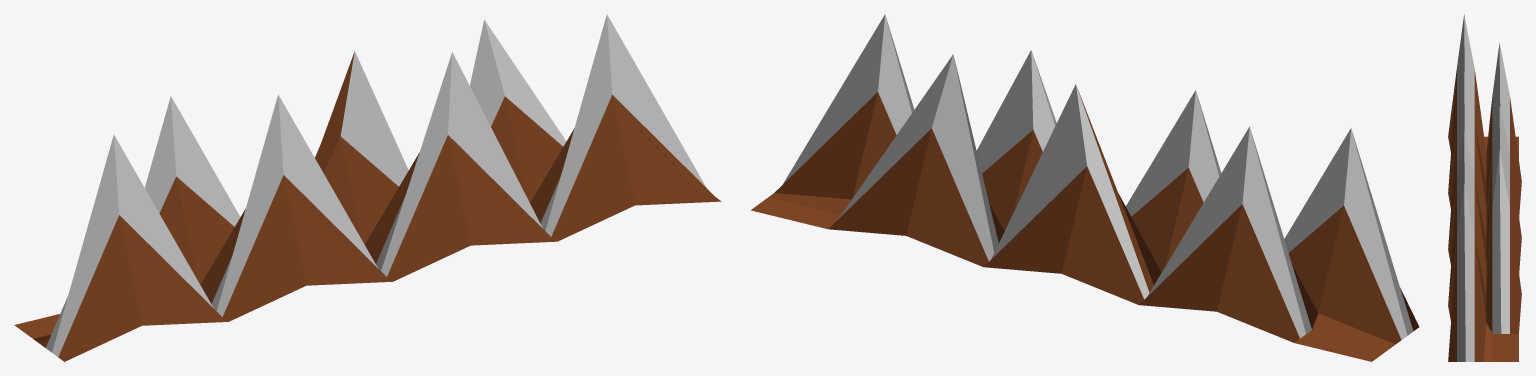
The model's file is montagne contour.fbx.
3 renders of one model, left to right at view 1: azimuth 30°, elevation 25°; view 2: azimuth 150°, elevation 25°; view 3: azimuth 270°, elevation 25°, orthographic. The views are drawn at different scales.
Parts seen in each view (by area): view 1: Plane; view 2: Plane; view 3: Plane.
Part boxes in pixels (x1,y1,x2,y2): Plane: [14, 14, 721, 361]; Plane: [751, 14, 1419, 361]; Plane: [1448, 14, 1521, 361].
Size of the model in its own units: 1063 by 316 by 147.
